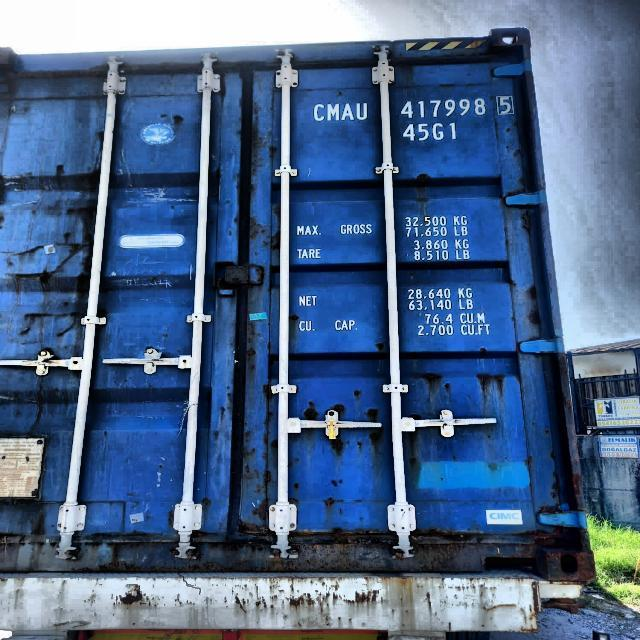ISO: (402, 121, 458, 142)
container_number: (312, 92, 516, 120)
